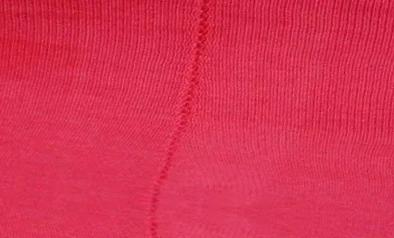slub: (146, 1, 217, 238)
